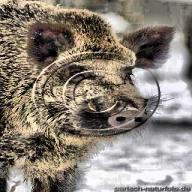boar: (0, 0, 176, 191)
